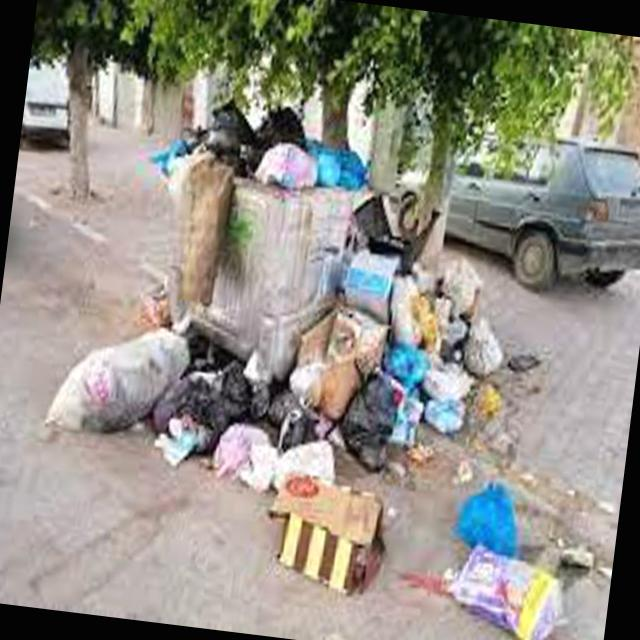garbage: (20, 69, 633, 640), (78, 90, 610, 640)
